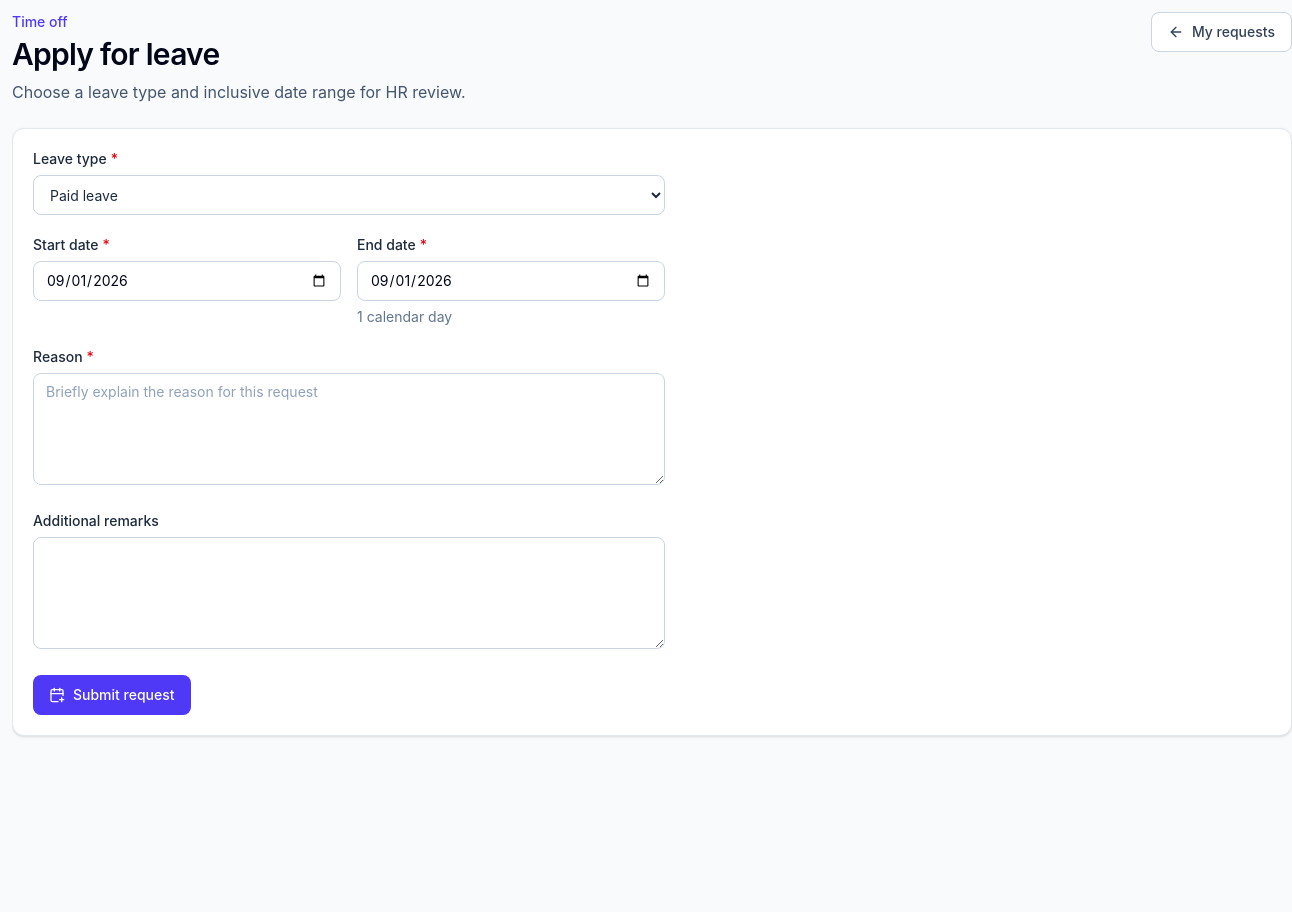
Test: feature actions › submits a validated leave application
In the text box labelled "Reason*": (349, 429) [33,373,665,485], type "Family appointment"
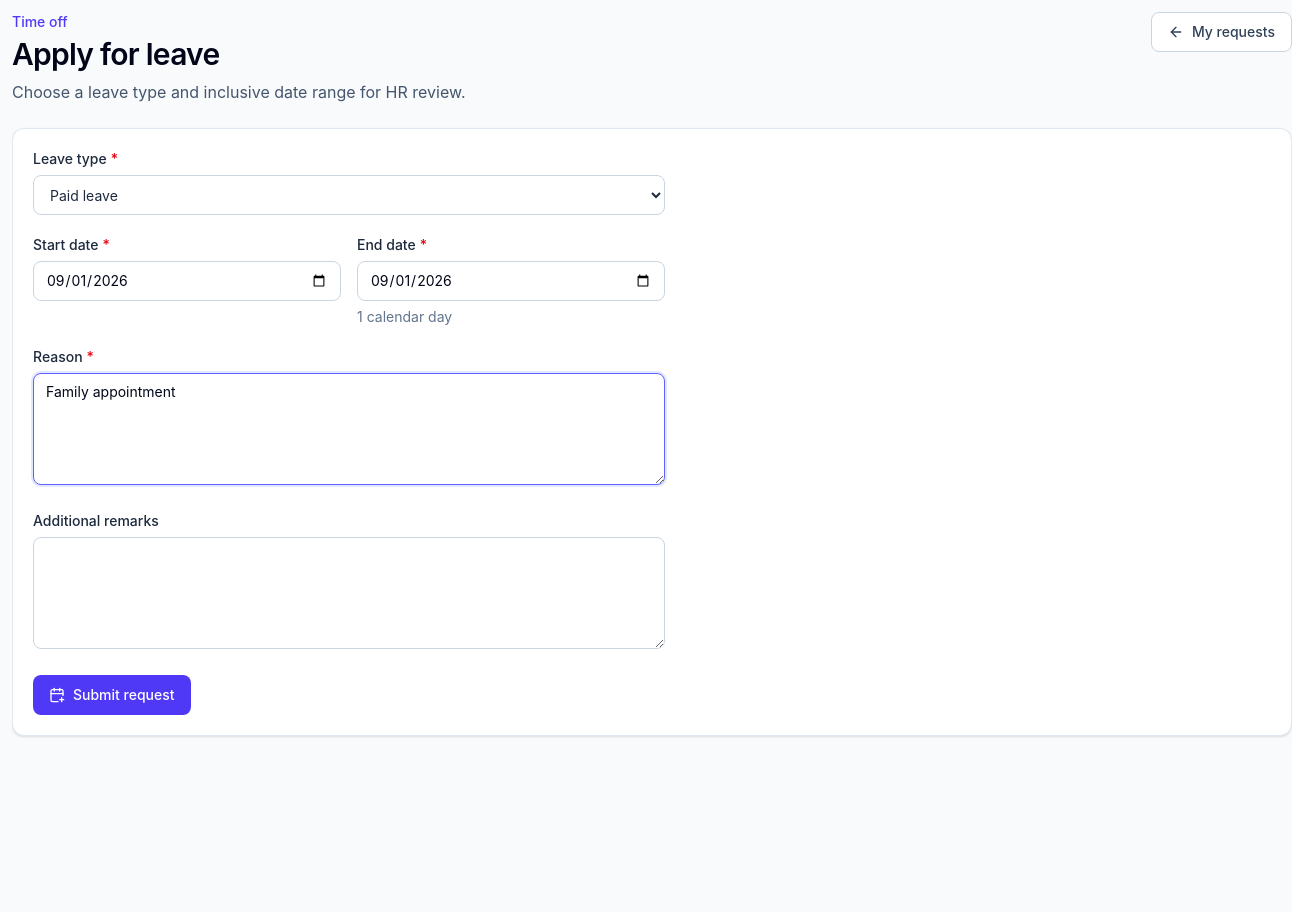
Click the button "Submit request": (112, 695) [33,675,191,715]
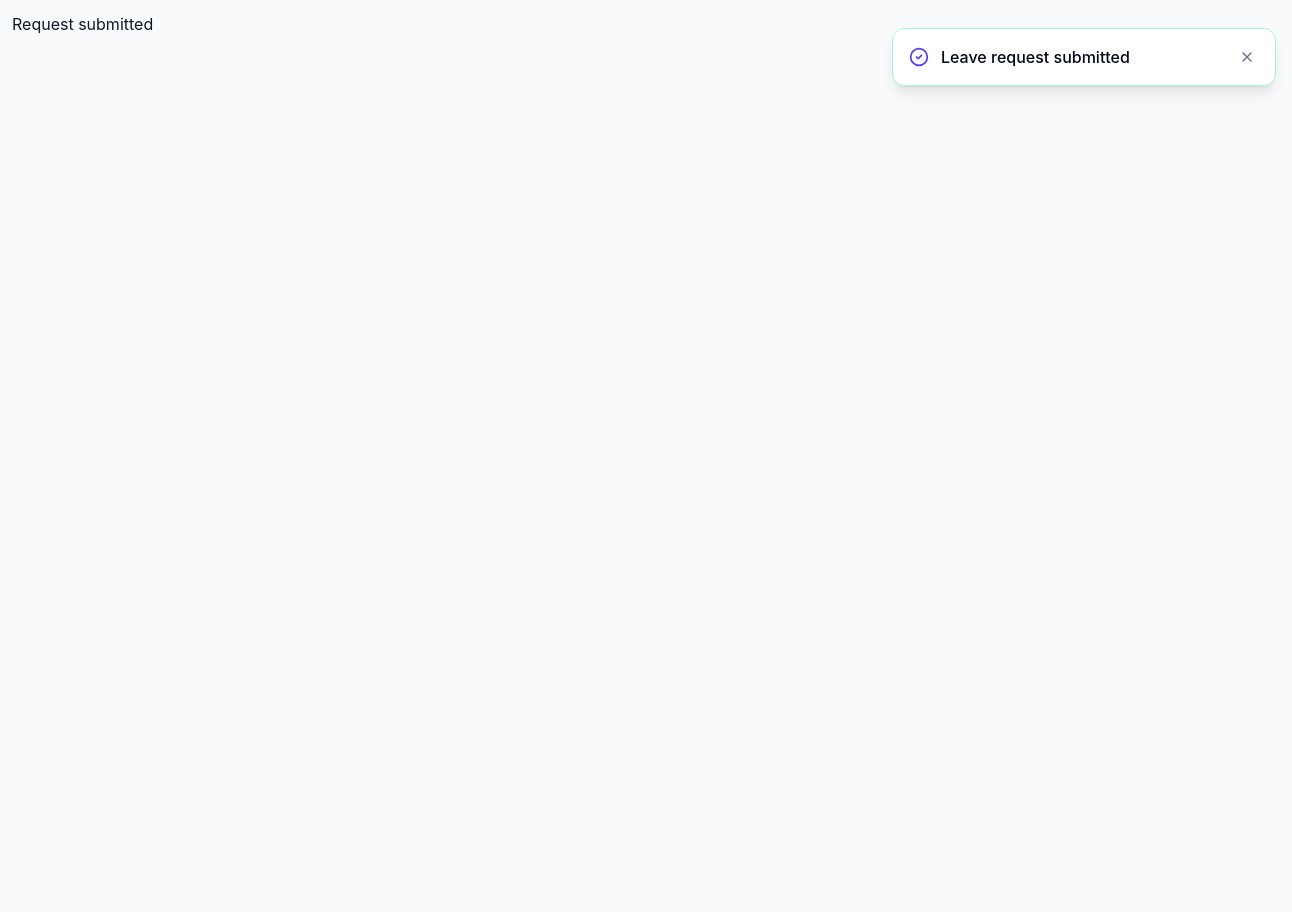
Now the text "Request submitted" is shown, box [12,14,153,34]
